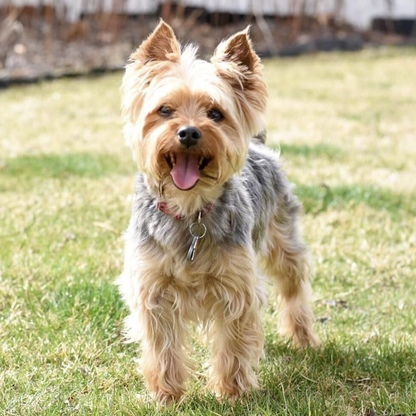yorkshire: (114, 17, 320, 403)
